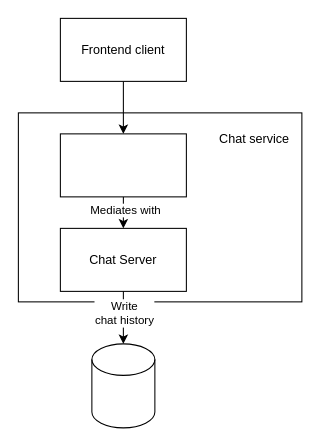
The diagram is 320 pixels wide and 446 high, and some of its shapes have lost their labels. Here are the shapes that lost their labels. From the top down, the centre of each, then its label:
At point 122,165: "Chat handler".
At point 123,385: "Database".
